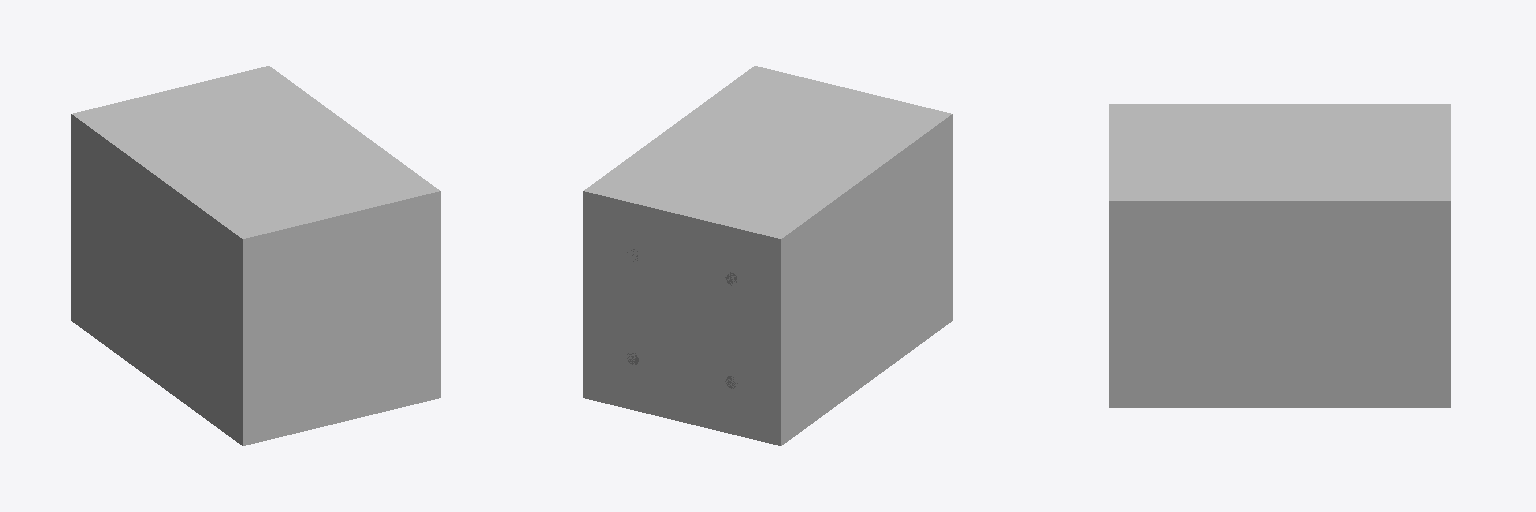
Rendered from diesel_aucman_displaystand.obj.
3 views of the same model, side by side, from view 1: azimuth 30°, elevation 25°; view 2: azimuth 150°, elevation 25°; view 3: azimuth 270°, elevation 25° (orthographic).
Parts seen in each view (by area): view 1: co_culling; view 2: co_culling; view 3: co_culling.
Part boxes in pixels (x1,y1,x2,y2): co_culling: (71,66,440,445); co_culling: (583,66,952,445); co_culling: (1109,104,1450,407).
Size of the model in its own units: 60 by 60 by 90.